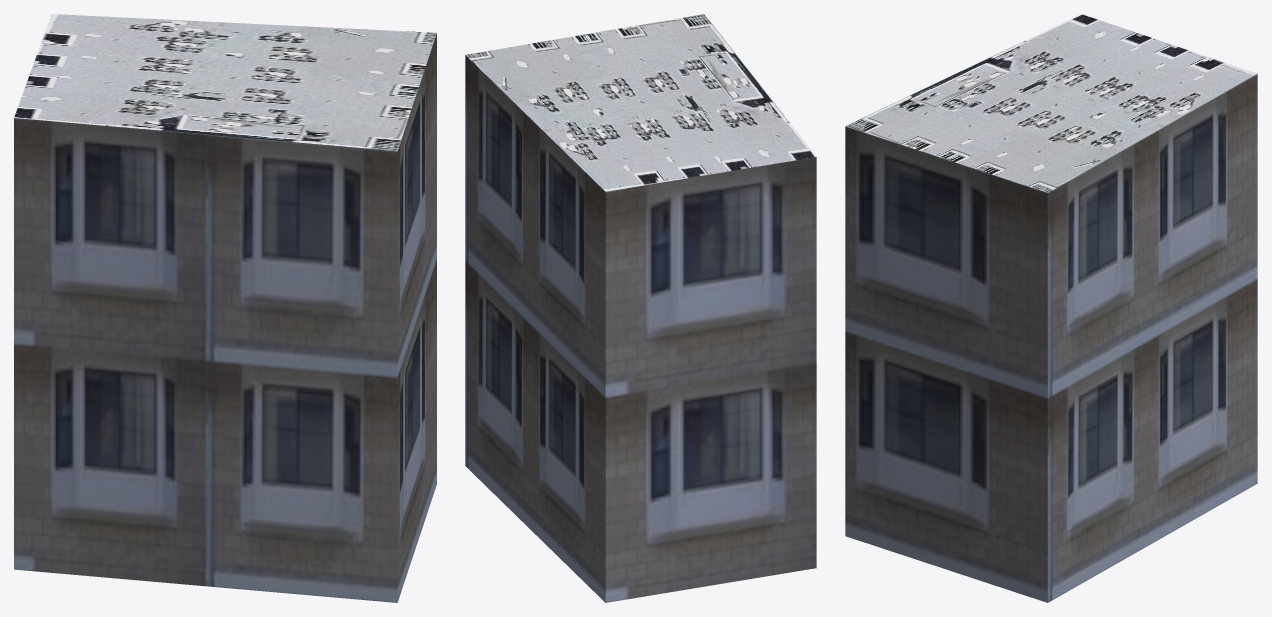
The model's file is ResTex__4598.fbx.
3 views of the same model, side by side, from view 1: azimuth 30°, elevation 25°; view 2: azimuth 150°, elevation 25°; view 3: azimuth 270°, elevation 25° (orthographic). The views are drawn at different scales.
Parts seen in each view (by area): view 1: CityEngineMaterial_3_m, CityEngineMaterial_m; view 2: CityEngineMaterial_3_m, CityEngineMaterial_m; view 3: CityEngineMaterial_3_m, CityEngineMaterial_m.
Boxes of the visible parts, left/top/right/bottom form: CityEngineMaterial_3_m: left=14, top=33, right=436, bottom=602; CityEngineMaterial_m: left=14, top=14, right=436, bottom=151; CityEngineMaterial_3_m: left=465, top=55, right=816, bottom=602; CityEngineMaterial_m: left=465, top=14, right=816, bottom=191; CityEngineMaterial_3_m: left=845, top=74, right=1257, bottom=602; CityEngineMaterial_m: left=845, top=14, right=1257, bottom=192.
Bounding box in the file's own units: 5.62 × 6 × 5.47.
2 materials, 2 textured.
